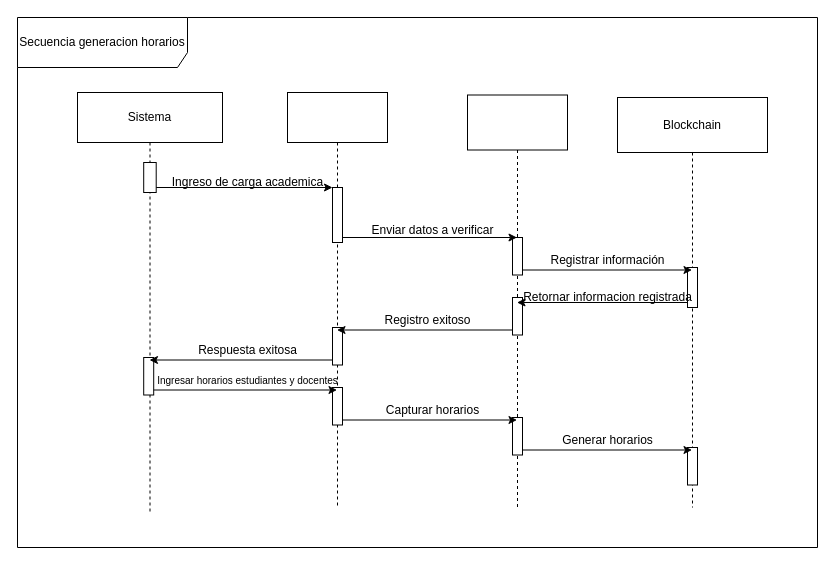
The diagram is 835 pixels wide and 565 high, and some of its shapes have lost their labels. The centre of each missing label's shape, as x and y in pixels:
"Contrato inteligente" belongs at point (517, 302).
"Frontend" belongs at point (337, 300).
